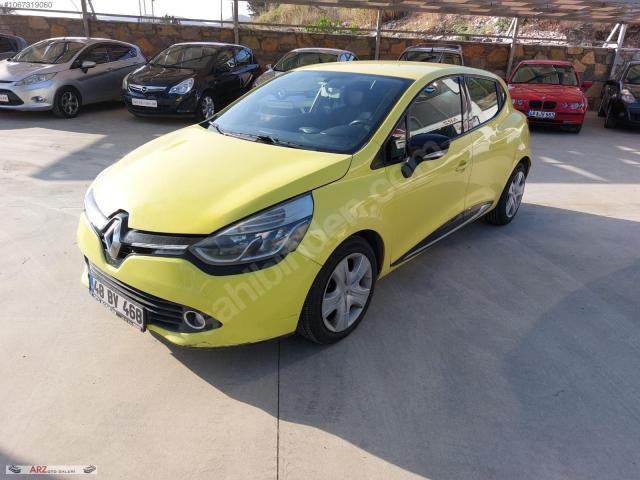plaka: (88, 272, 144, 331)
